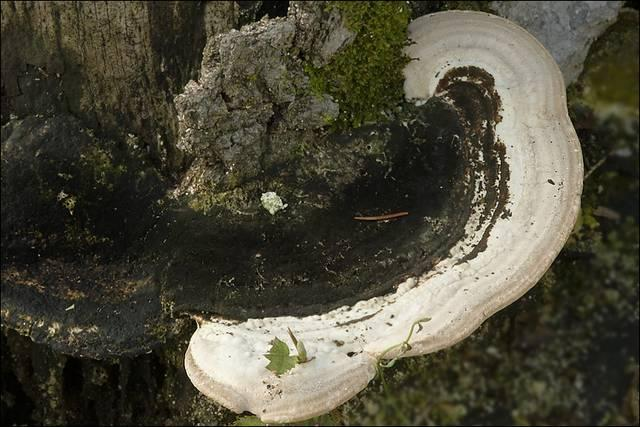poisonous_mushroom: (180, 8, 585, 424)
